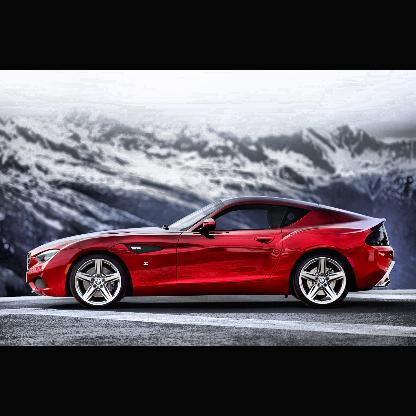Ferrari FF Coupe 2012: (25, 196, 396, 308)
